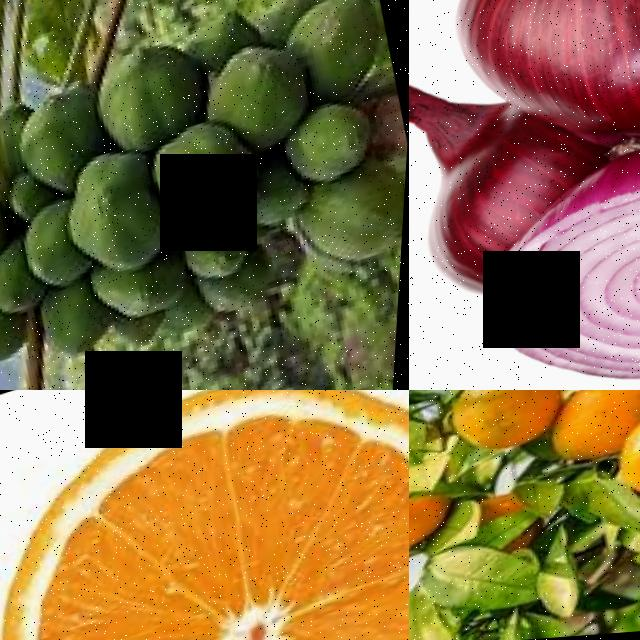onion: (461, 100, 640, 390), (427, 0, 640, 145), (409, 94, 571, 279)
orange: (0, 390, 409, 640), (447, 390, 567, 466), (543, 390, 640, 463), (409, 484, 457, 563), (610, 390, 640, 511)
pawpaw: (60, 151, 173, 295), (86, 34, 212, 161), (291, 169, 409, 293), (149, 125, 266, 249), (279, 0, 397, 113), (200, 39, 317, 150), (6, 78, 110, 196), (281, 103, 380, 200), (89, 256, 200, 337), (33, 282, 119, 375), (18, 203, 88, 300), (181, 226, 254, 293), (0, 247, 40, 326)
